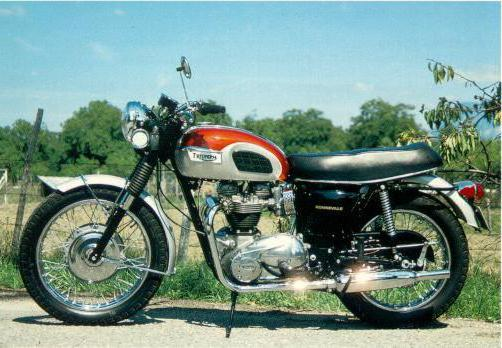motorcycle: (2, 52, 498, 334)
